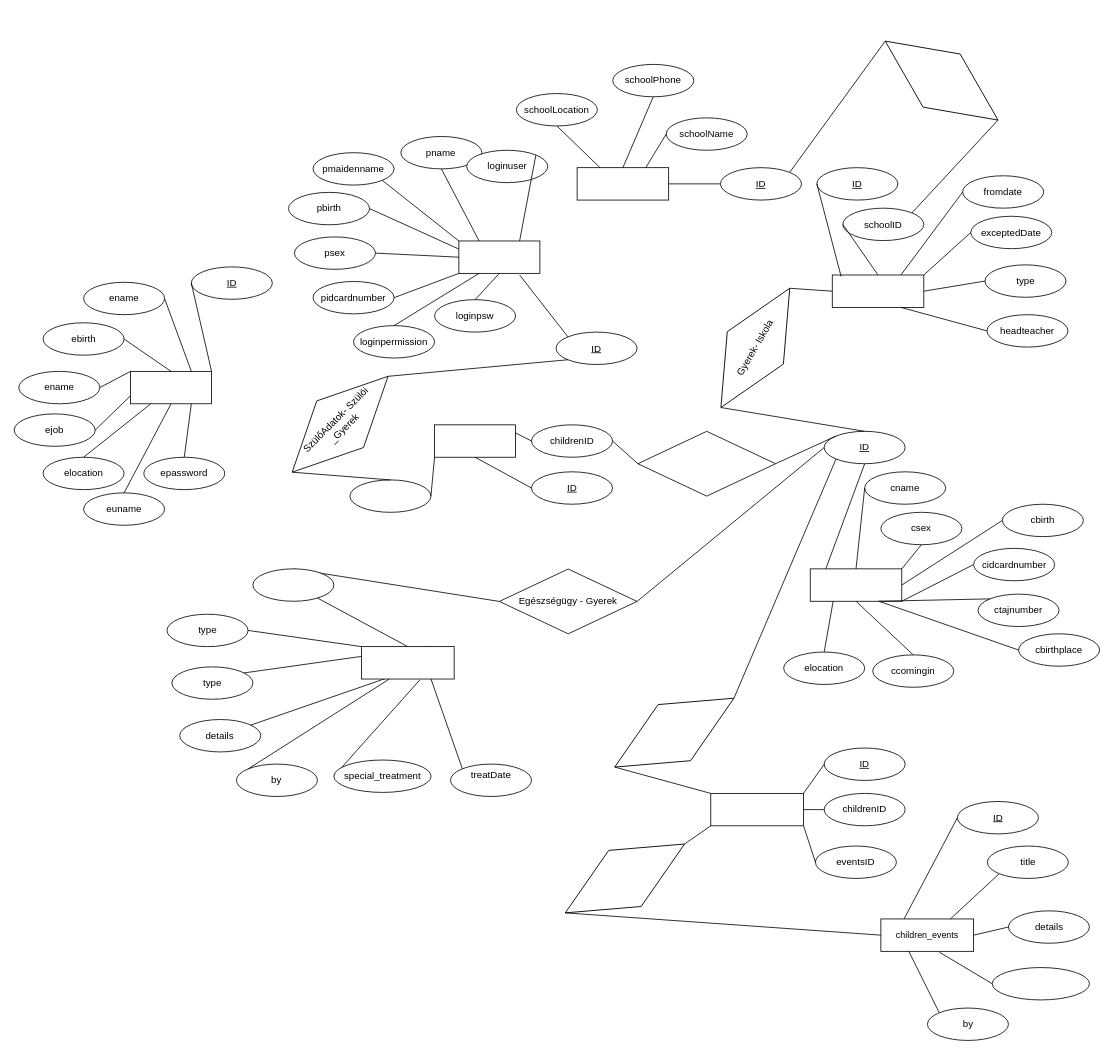
This 1114x1055 diagram has some shape labels left out. The shapes that lost their labels are listed below. From the top down, each one's centre as x and y in pixels, then its label:
At point 941,80: "Iskola adat- Iskola_Gyerek".
At point 622,183: "school".
At point 499,256: "parents".
At point 877,290: "children_school".
At point 171,387: "employes_user".
At point 475,440: "parentsk".
At point 706,463: "Gyerek- Szülöi".
At point 390,495: "pID".
At point 293,584: "boardID".
At point 855,584: "children_fullprofile".
At point 407,662: "children_health s".
At point 674,732: "Esemény -Kapcsoló tábla".
At point 757,809: "ceventsk".
At point 624,878: "Gyerek-Kapcsoló tábla".
At point 1040,983: "img".
